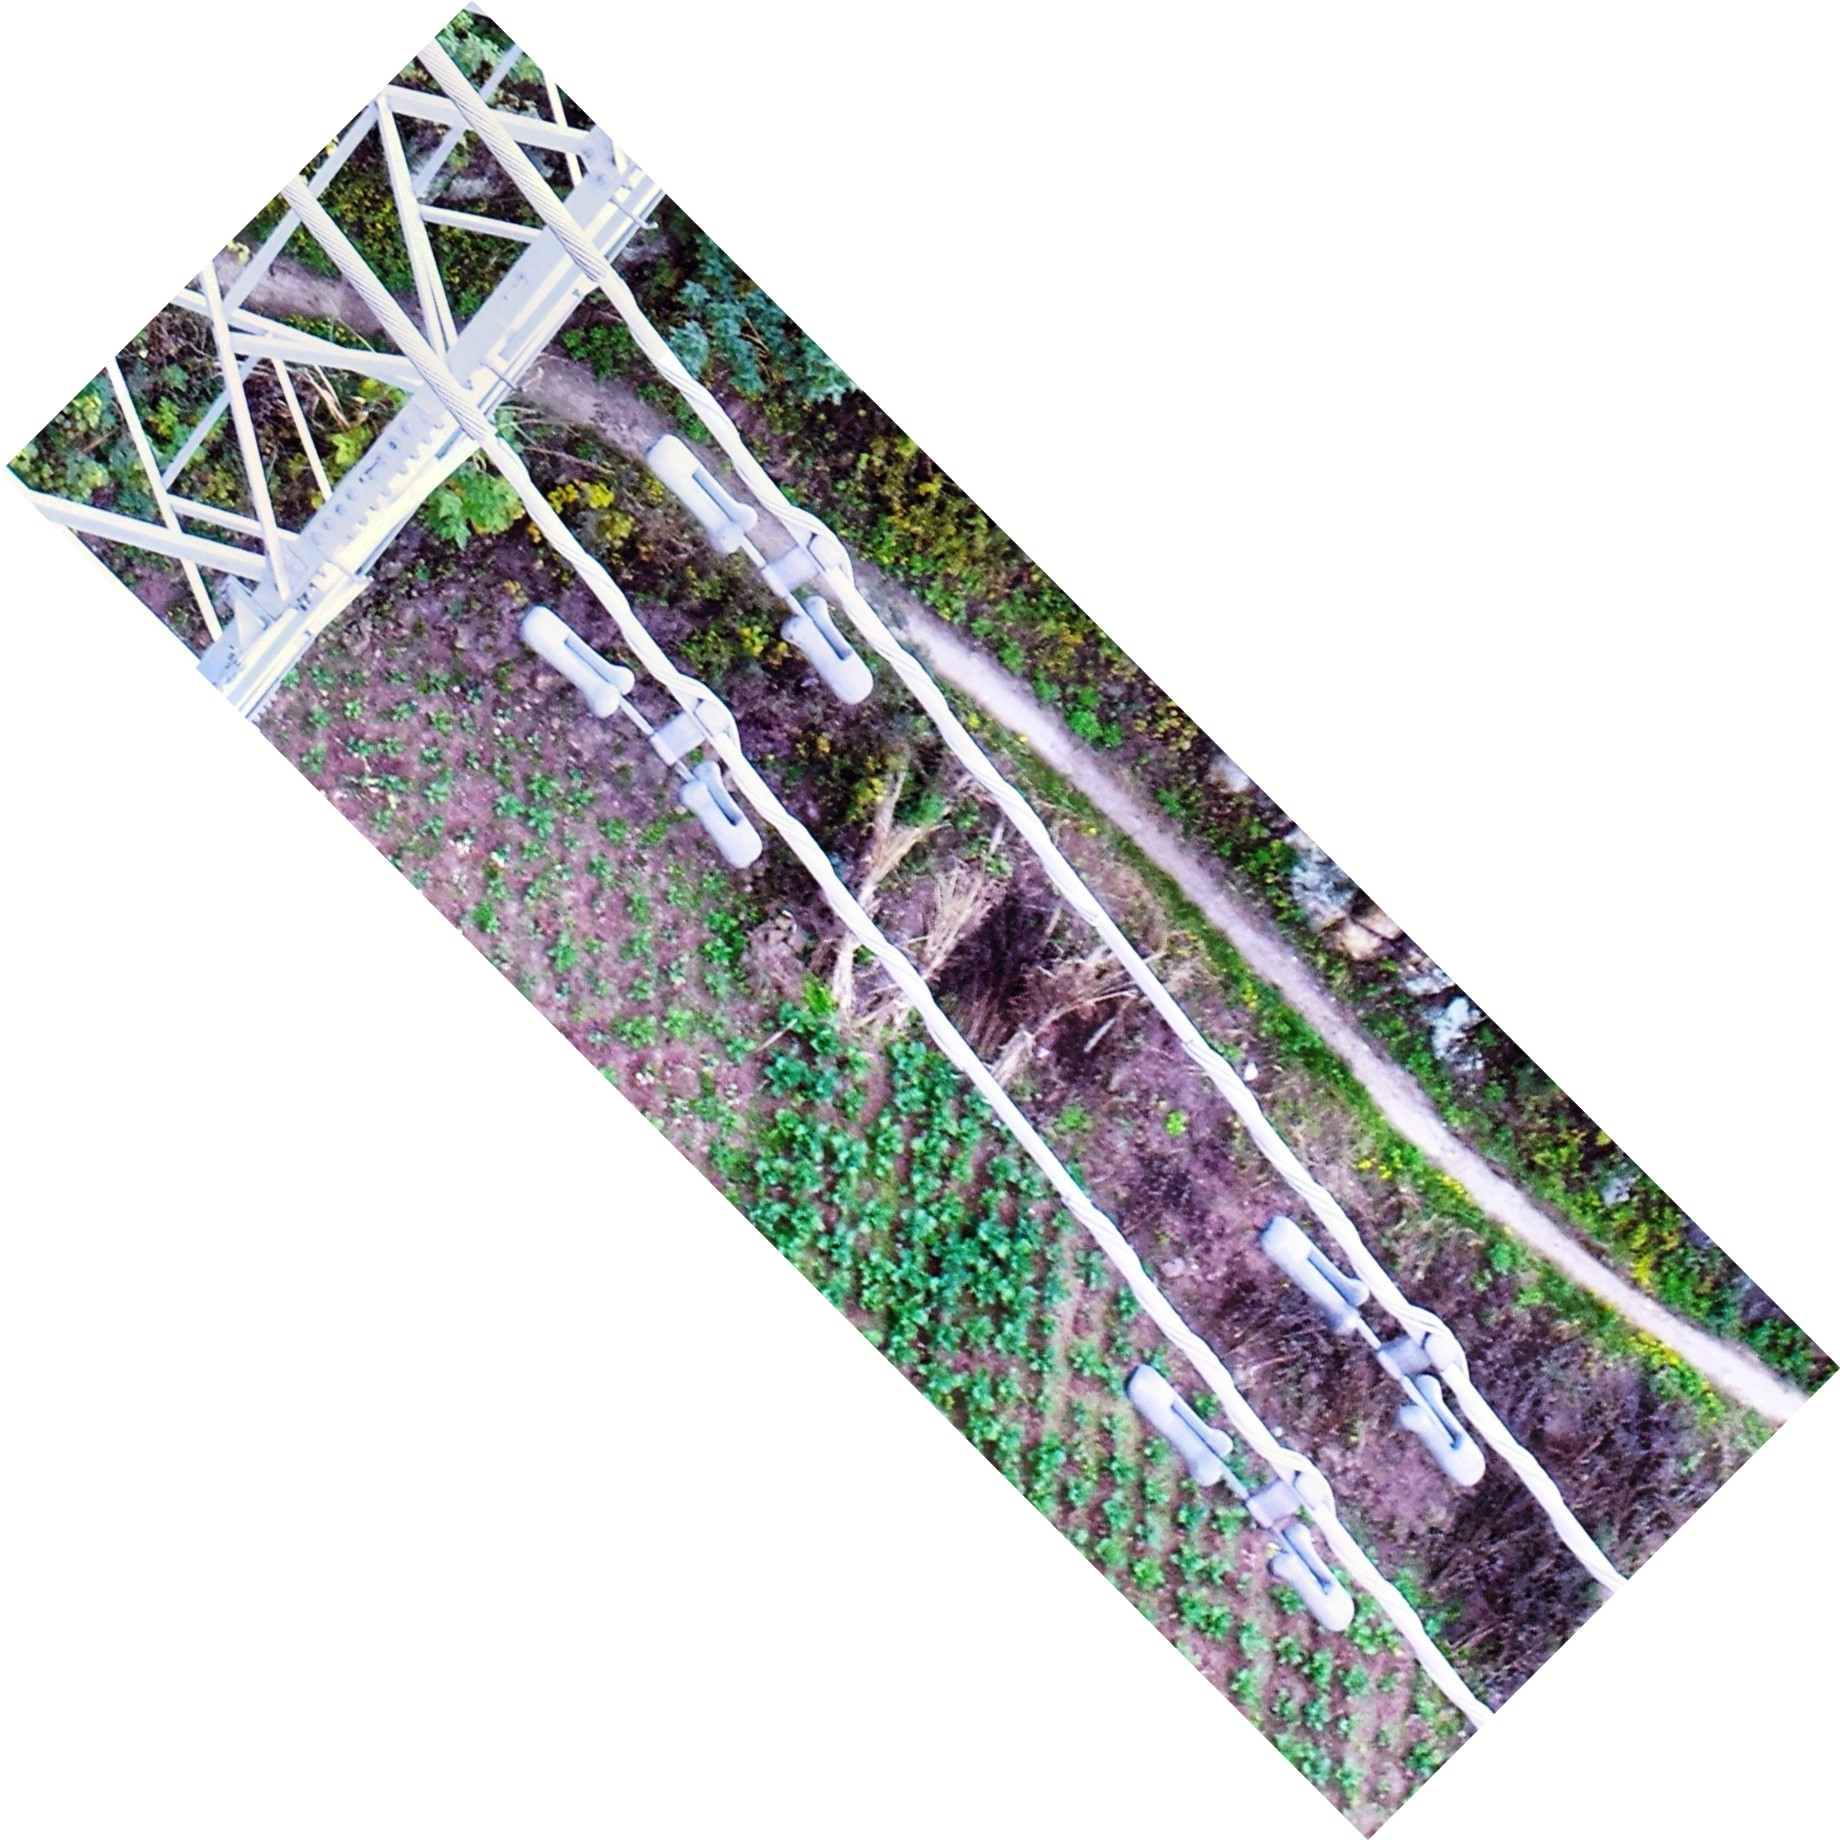Shockproof hammer: (1244, 1176, 1518, 1491), (634, 396, 898, 709)
